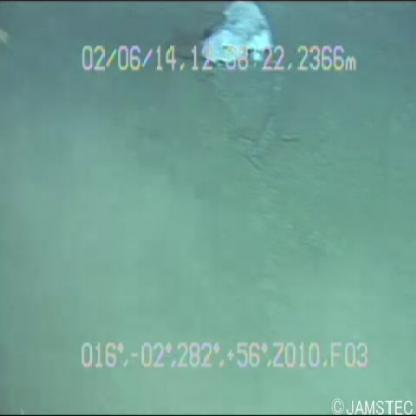Rác: (182, 2, 287, 84)
